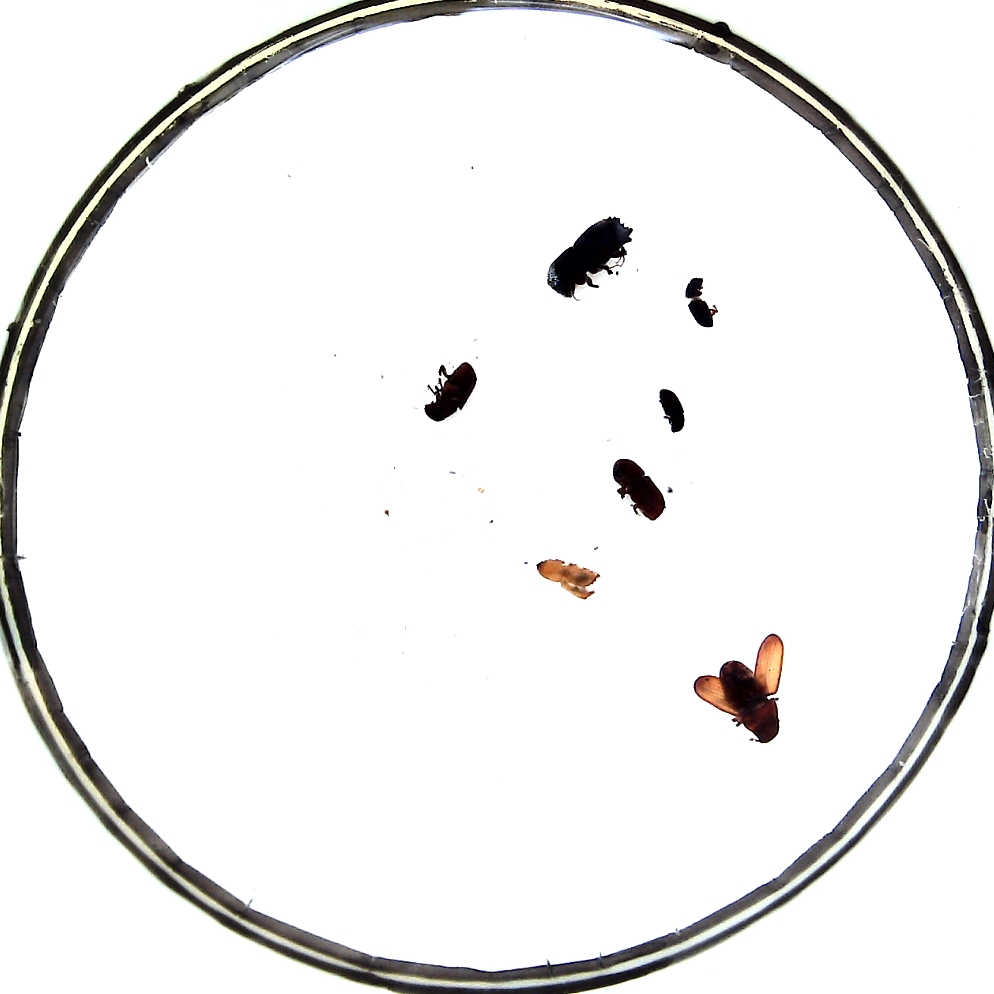Boerner: (546, 217, 632, 300)
Leconte: (720, 660, 779, 743)
acuminatus: (685, 277, 713, 329), (659, 389, 684, 433)
armandi: (424, 362, 477, 421)
coleoptera: (535, 559, 600, 600)
linnaeus: (612, 458, 666, 521)
